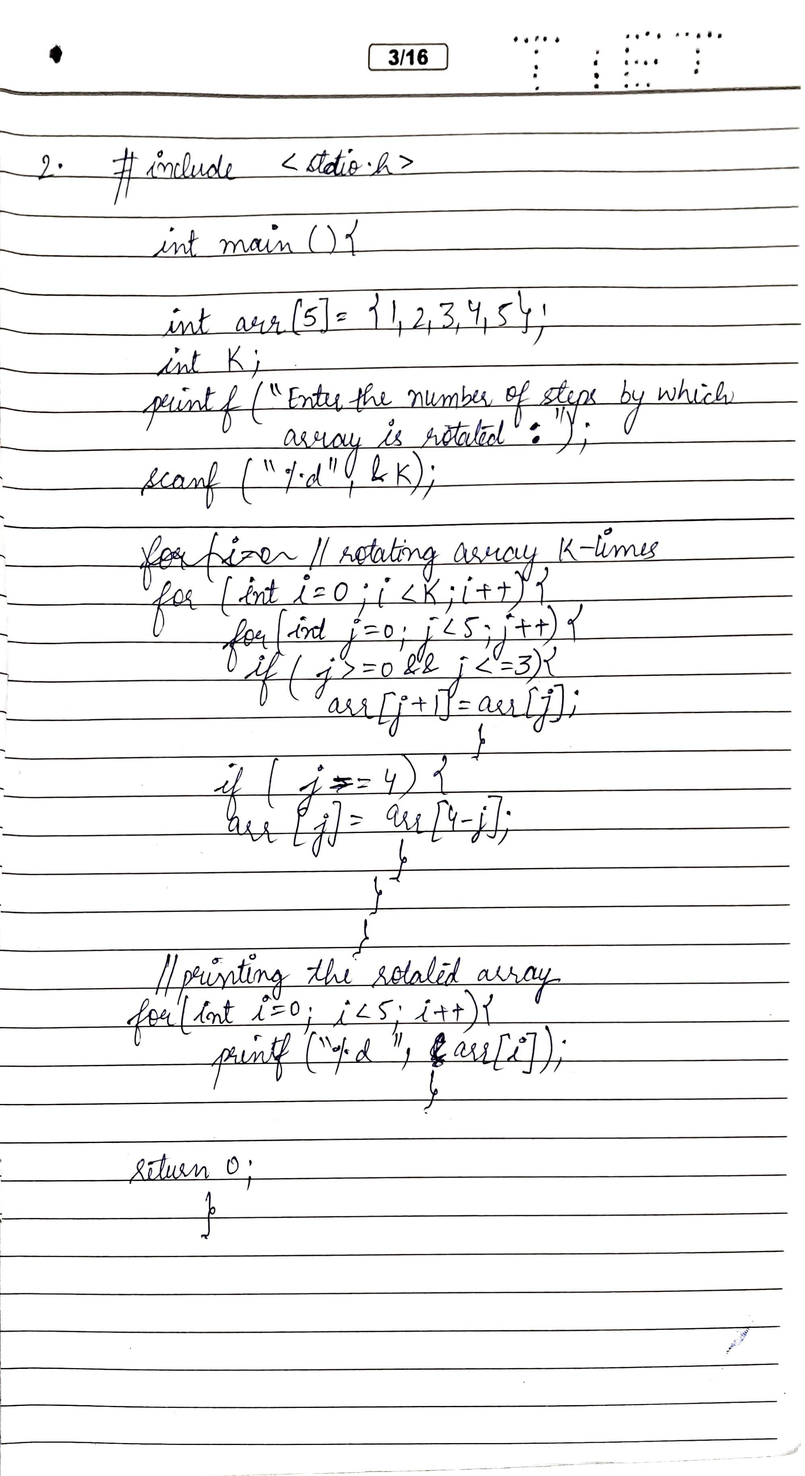cuttings: (138, 530, 300, 592), (428, 1031, 447, 1069)
